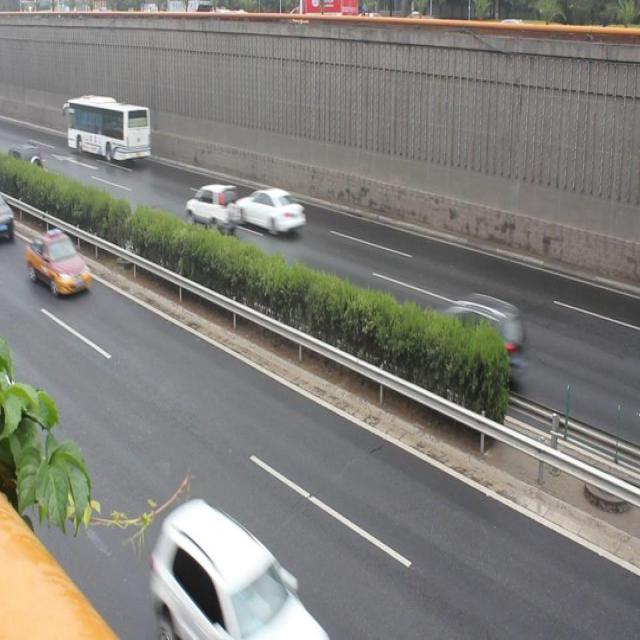car: (153, 503, 320, 640), (429, 287, 522, 377), (26, 229, 98, 307), (236, 182, 304, 243), (184, 179, 243, 236), (1, 138, 48, 181)
van: (65, 94, 153, 167)
